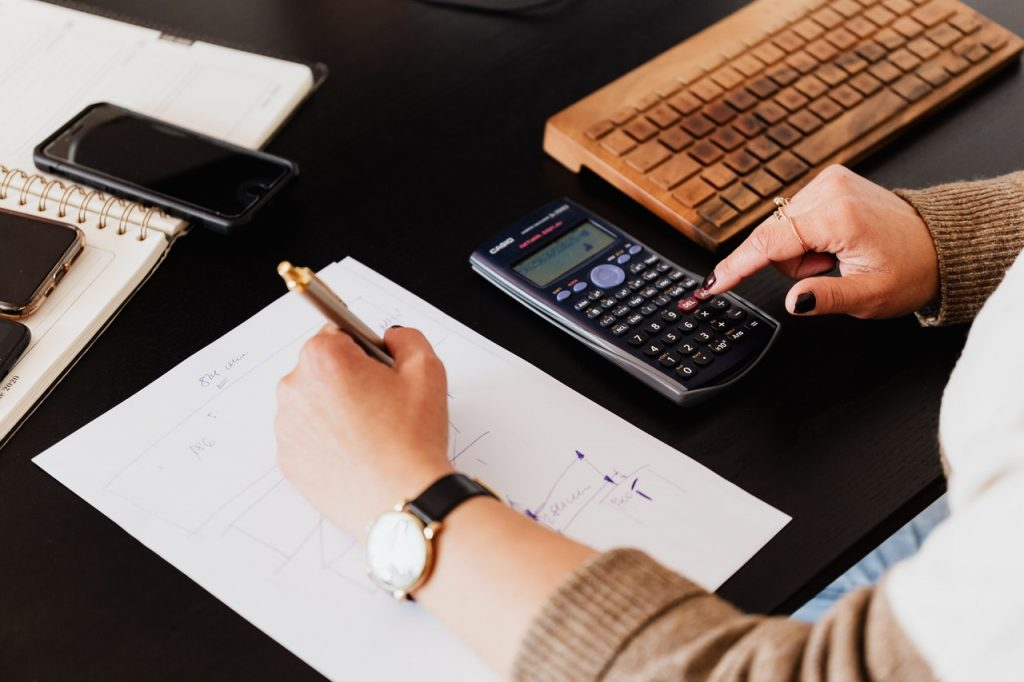Calculator: (463, 199, 781, 402)
